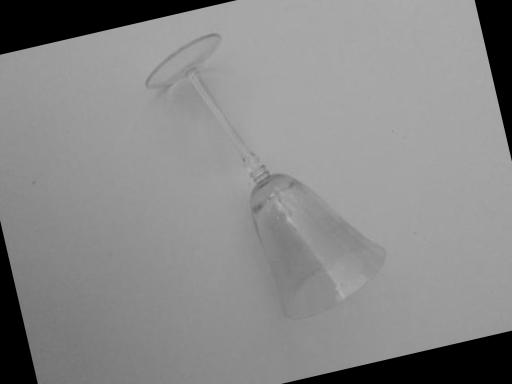glass: (111, 0, 432, 375)
